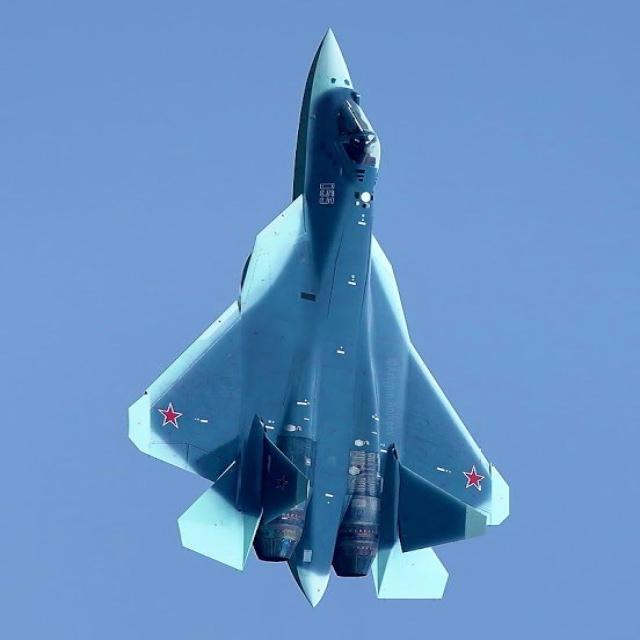MIL_Plane: (126, 27, 512, 608)
